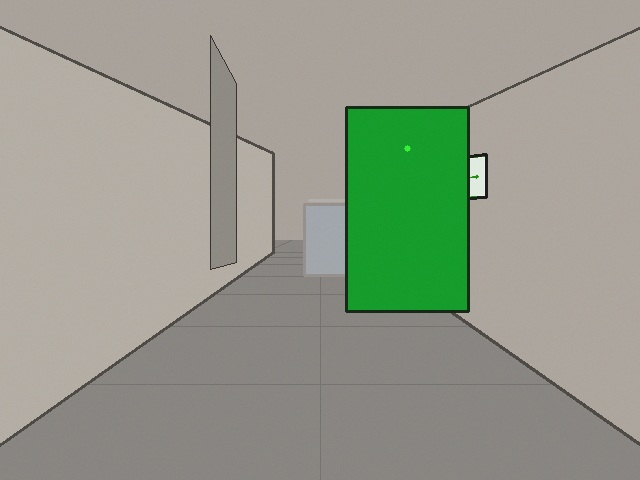charging_station: (346, 107, 468, 311)
directional_sign: (411, 154, 486, 201)
hospital_bed: (304, 204, 405, 275)
